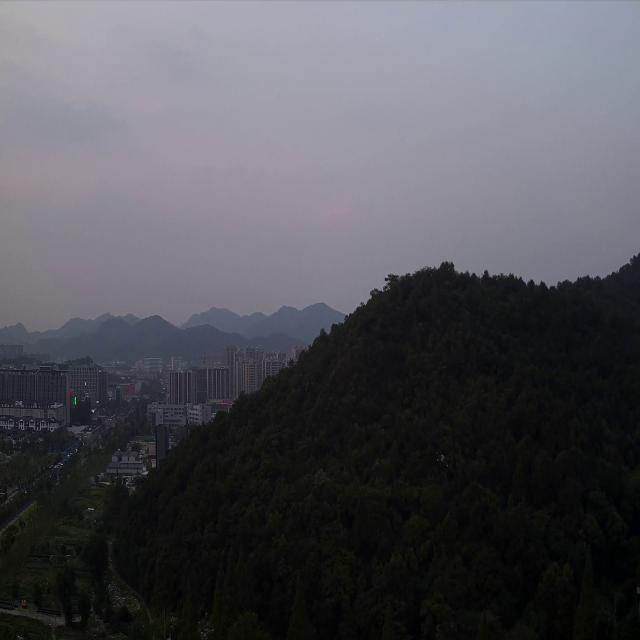drone: (436, 451, 448, 467)
